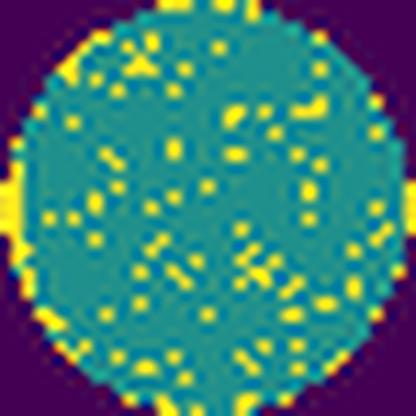Edge-Loc: (0, 158, 41, 297), (27, 305, 65, 338)
